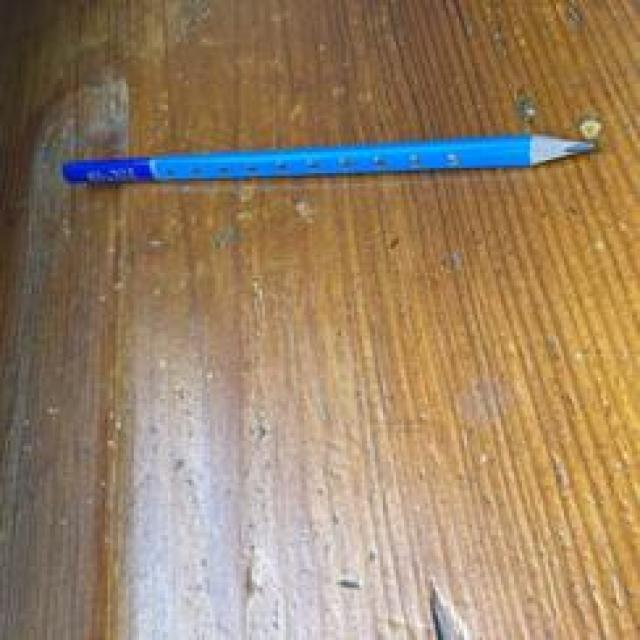pencil: (60, 129, 598, 186)
